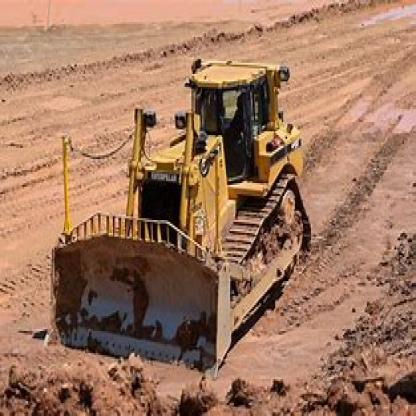bull_dozer/loader/grader: (45, 44, 318, 374)
